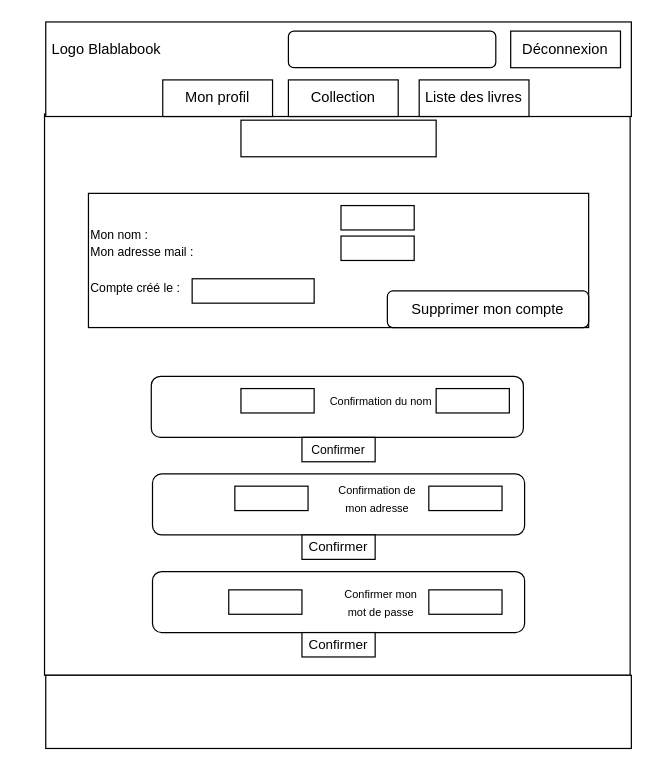
Image size: 653x770. Some labels were removed from this diagram. Each missing label, with the box of its shape:
Ma nouvelle adresse: (151, 473, 525, 535)
Mon nouveau mot de passe: (151, 570, 525, 633)
Mon nouveau nom: (150, 375, 523, 437)
Recherche des livres: (287, 30, 496, 68)
Récapitulatif du compte: (240, 119, 436, 157)
